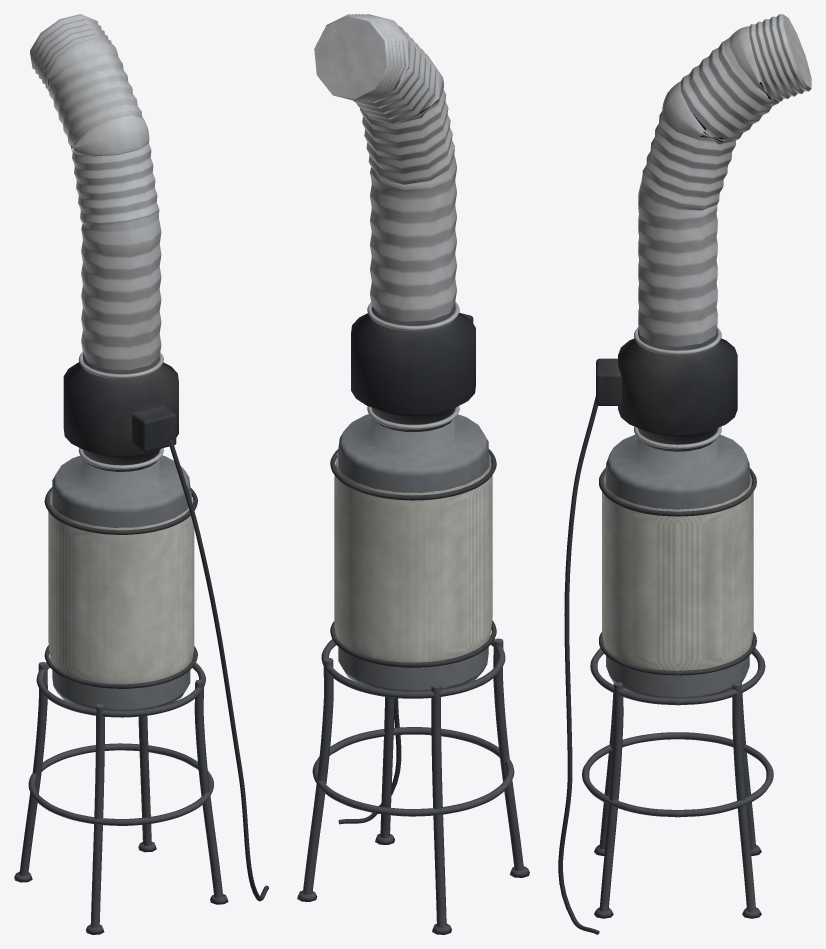
Rendered from kryj_filtr.glb.
The picture shows the model from 3 angles, left to right: view 1: azimuth 30°, elevation 25°; view 2: azimuth 150°, elevation 25°; view 3: azimuth 270°, elevation 25°; orthographic projection. The views are drawn at different scales.
Parts seen in each view (by area): view 1: Filtr; view 2: Filtr; view 3: Filtr.
Boxes of the visible parts, x1,y1,x2,y2 form: Filtr: [14, 14, 268, 934]; Filtr: [297, 14, 529, 934]; Filtr: [558, 14, 811, 934].
Size of the model in its own units: 0.5639 by 2.39 by 0.6348.
Materials: 1 (1 with a texture image).
